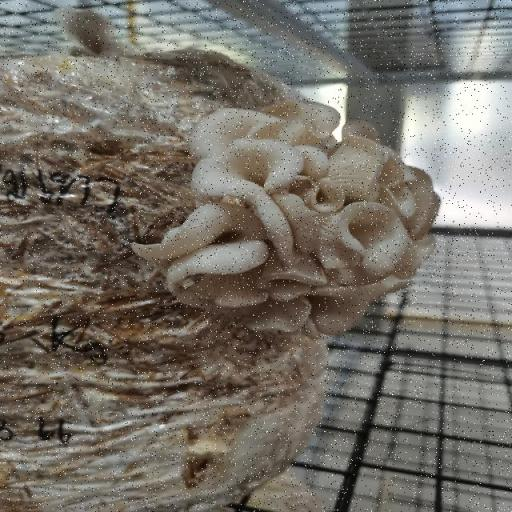White Oyster Mushroom: (112, 52, 474, 398)
